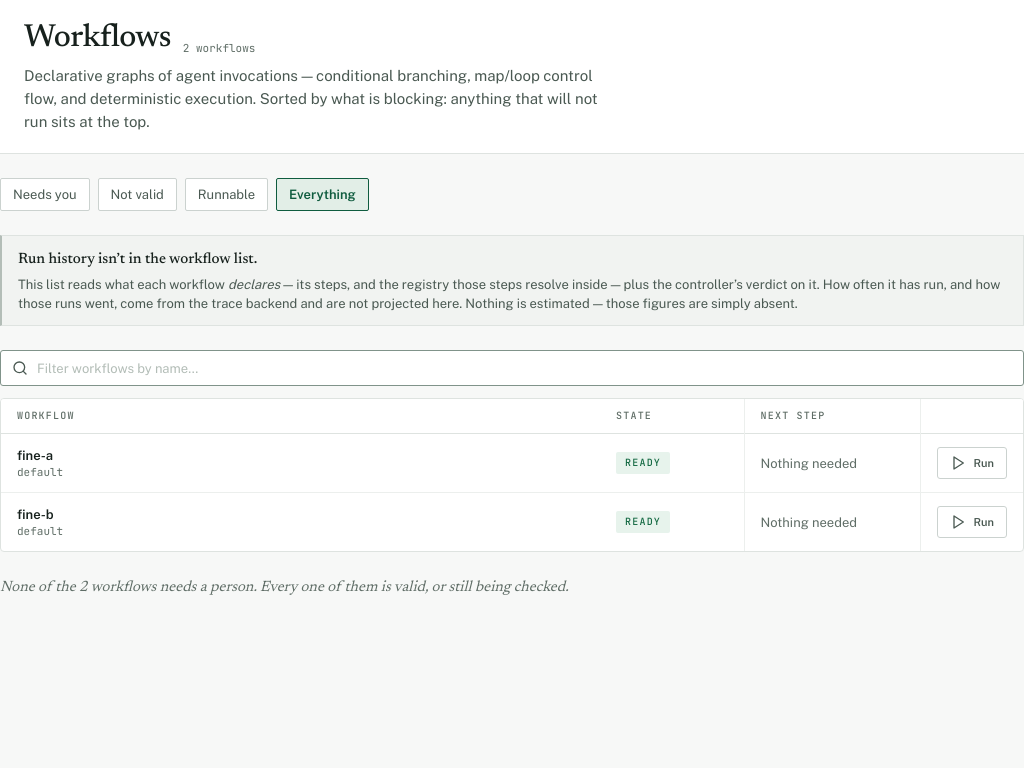
WorkflowsPage — archetype A1 (M151) › chip views ask one question at a time, and an emptied view offers the way back
This screenshot has width=1024, height=768.
Expected: the text "fine-a" is shown, [17,448,53,463]
What coordinates should you click on to do the following:
click the radio button labelled "Not valid"
I would click on:
 (137, 194)
Its box is [98,178,177,211].
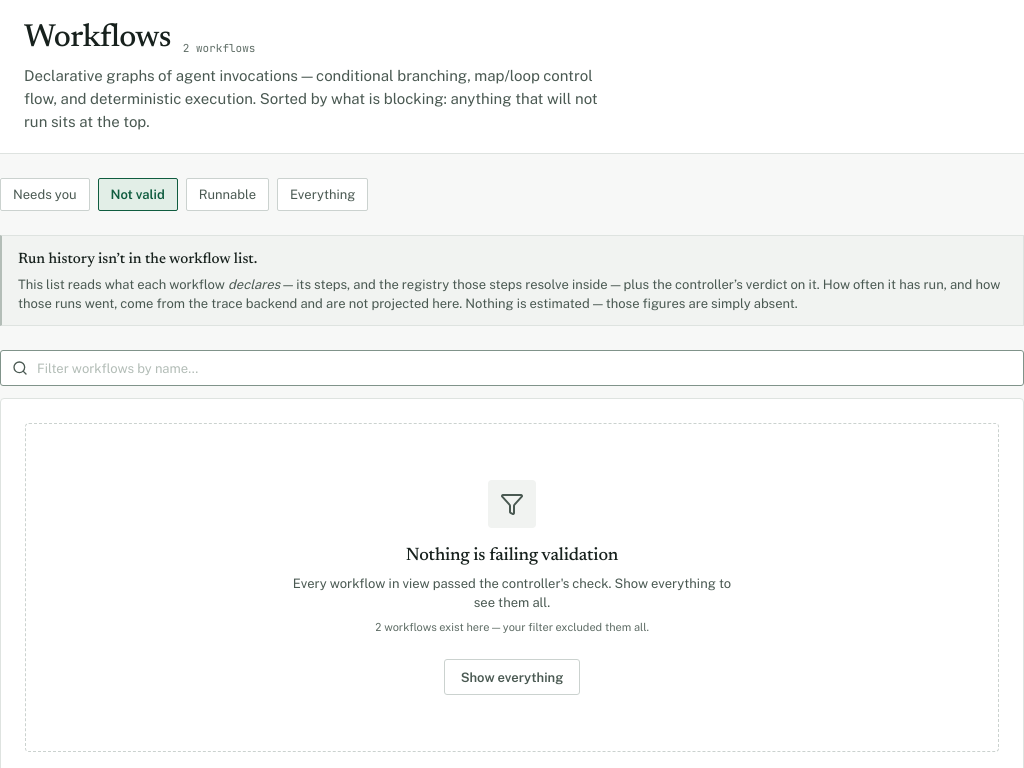
Expected: the heading "Nothing is failing validation" is shown, [406,544,618,568]
What coordinates should you click on to do the following:
click the button "Show everything"
I would click on:
 (512, 677)
Its box is [444,659,580,695].
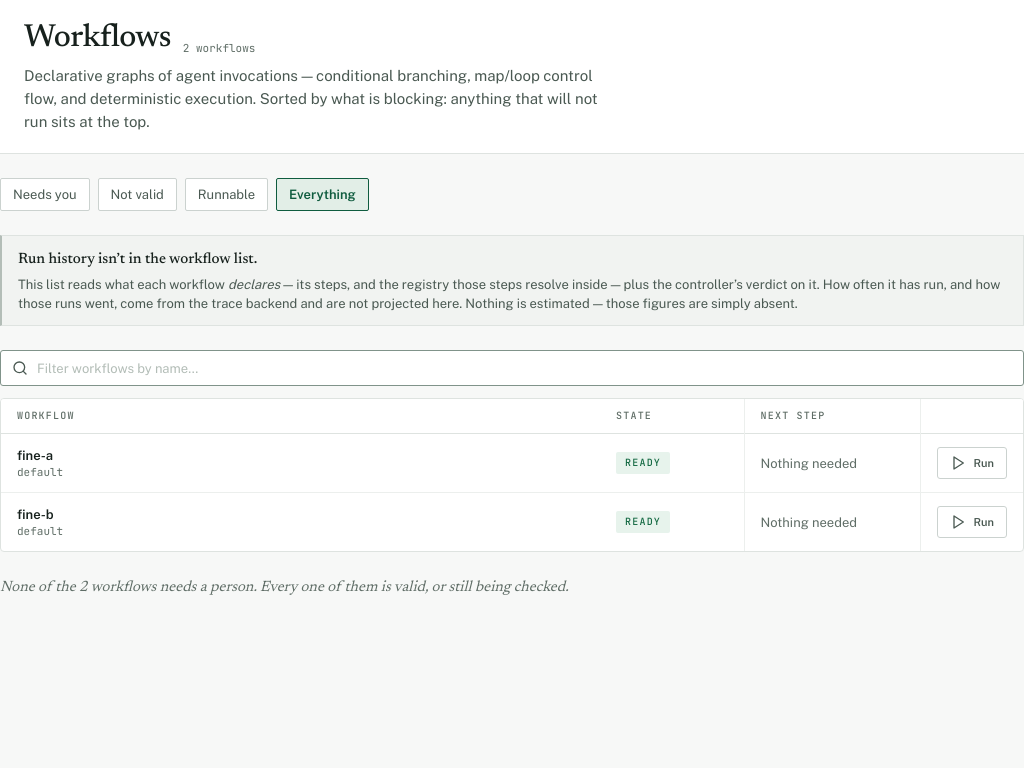
Expected: the text "fine-a" is shown, [17,448,53,463]
